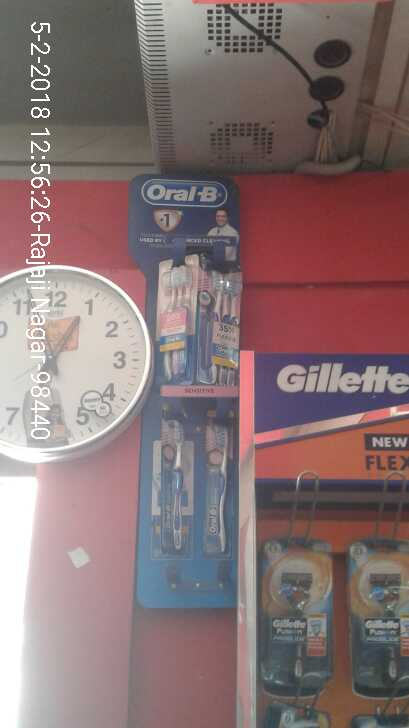oralb: (193, 406, 240, 564), (151, 414, 195, 553), (146, 265, 196, 368), (198, 263, 244, 367)
